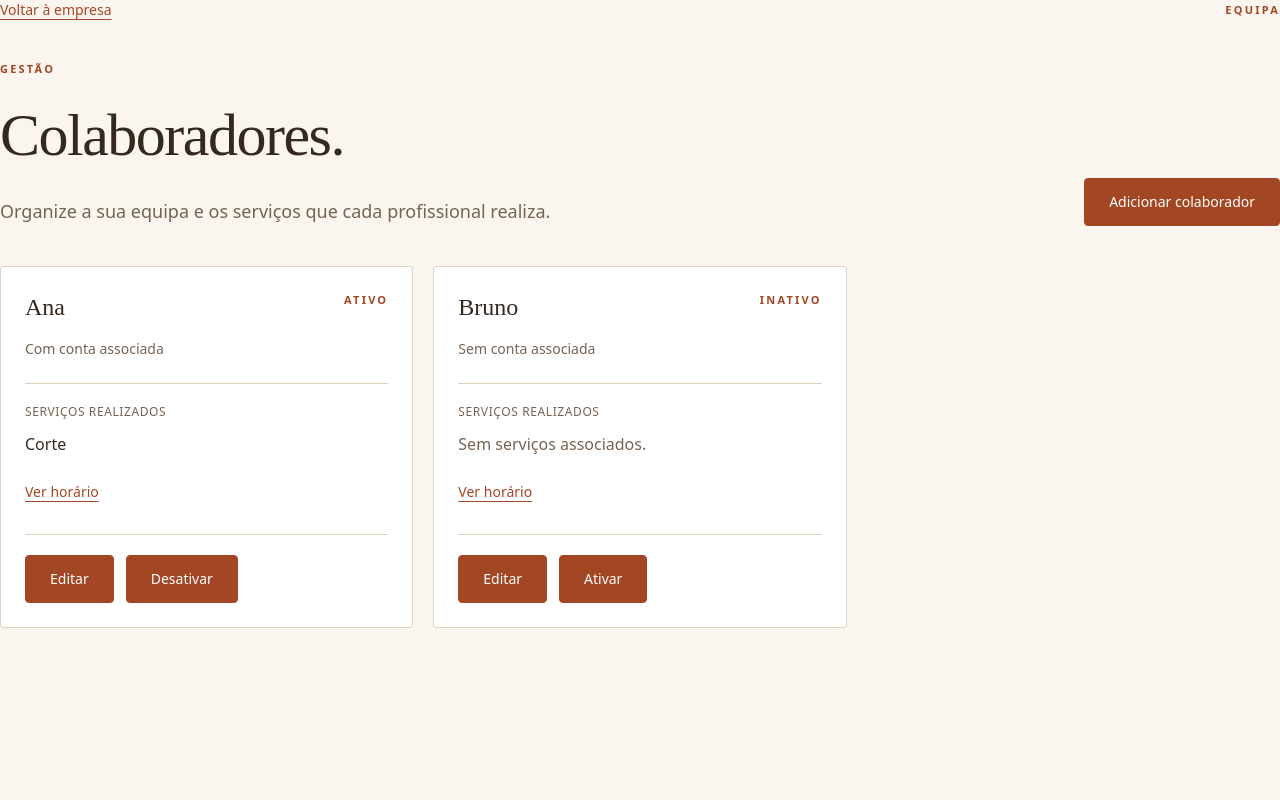
Test: preenche edição e permite limpar serviços e conta
Click the button "Editar" below "Corte" at (69, 579), box [25,555,114,603]
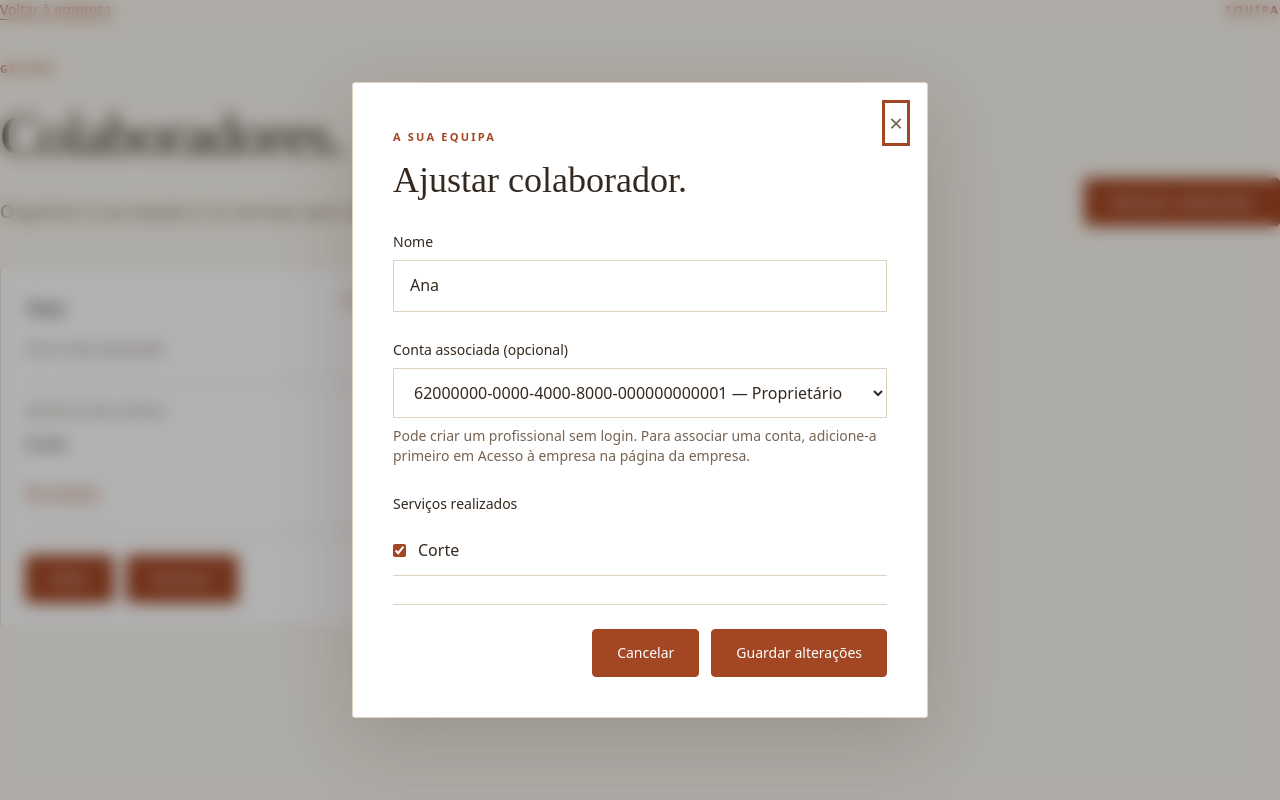
Expected: the field labelled "Nome" holds "Ana", [393,260,887,312]
Expected: the checkbox labelled "Corte" is checked
Expected: the dropdown labelled "Conta associada (opcional)" shows "62000000-0000-4000-8000-000000000001 — Proprietário", [393,368,887,418]
Click the checkbox labelled "Corte" at (400, 551), box [393,544,406,557]
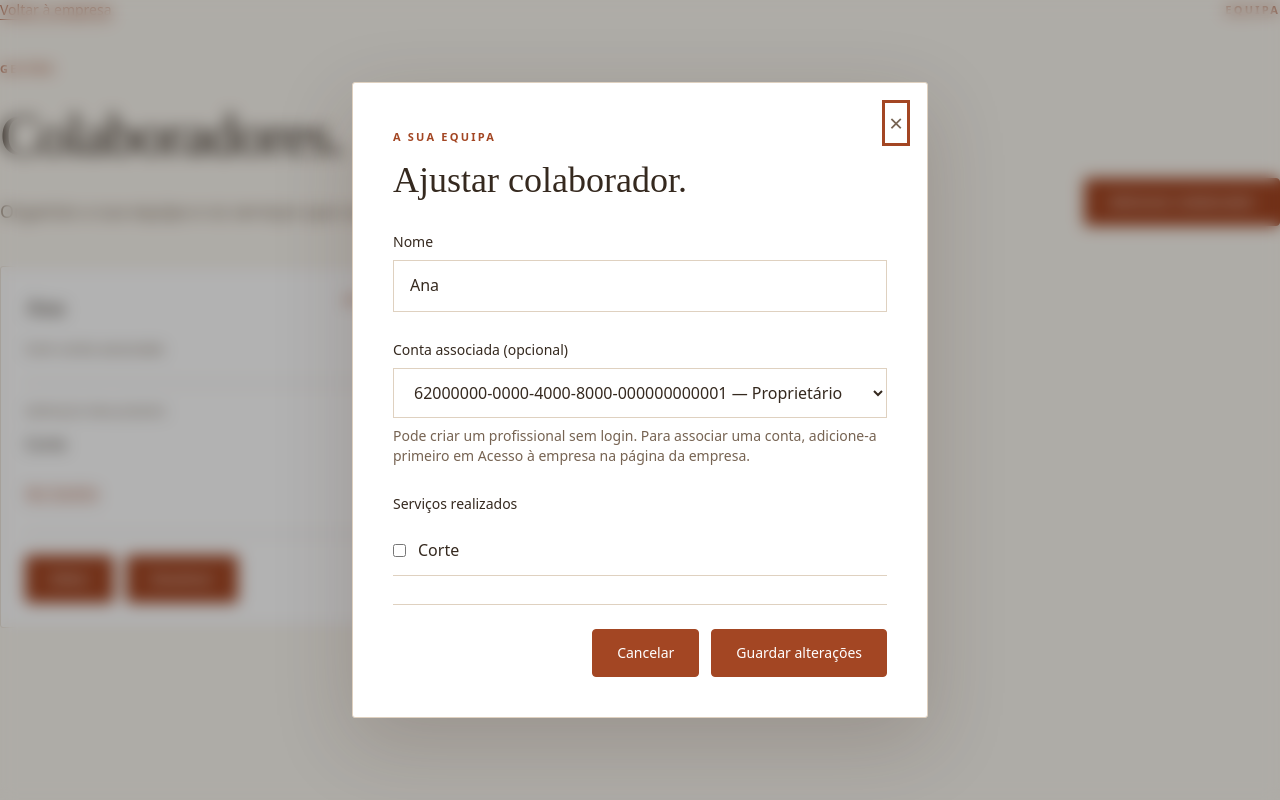
Select "Sem conta associada" in the dropdown labelled "Conta associada (opcional)" at (640, 393), box [393,368,887,418]
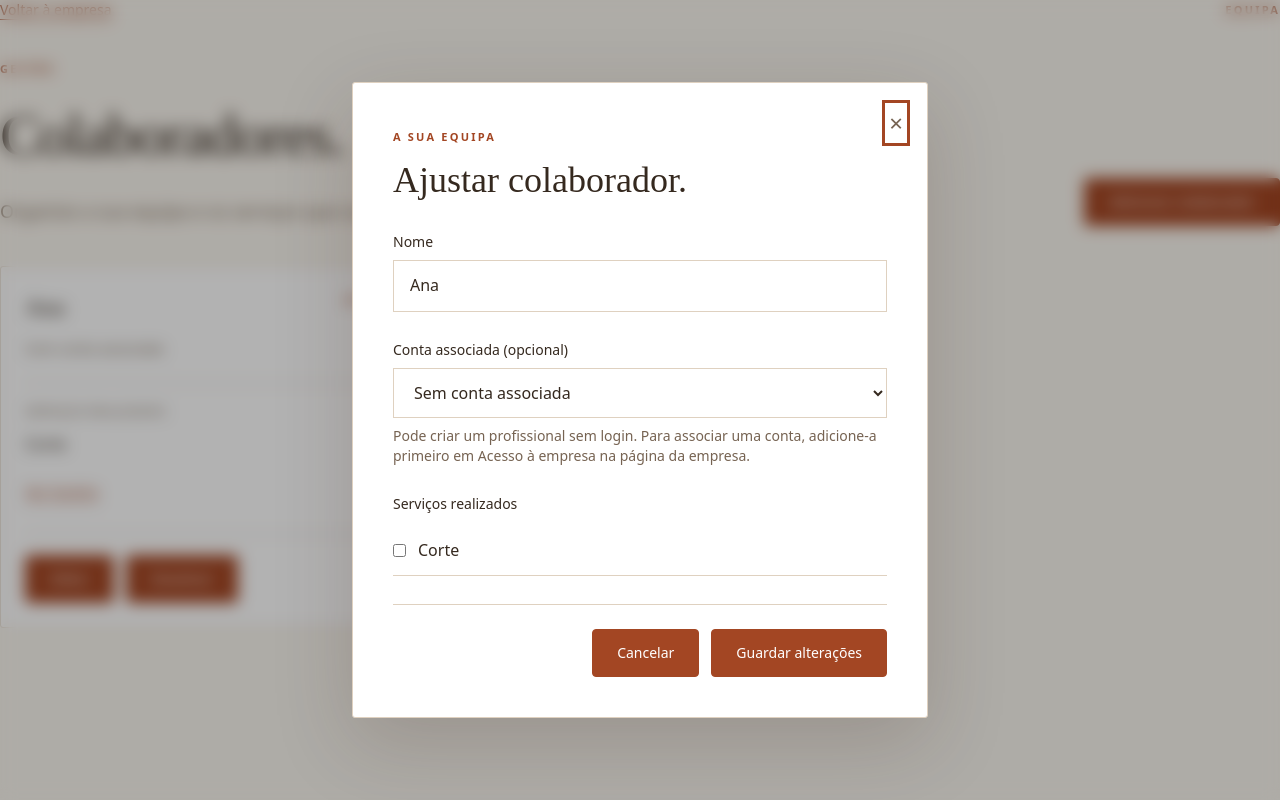
Click the button "Guardar alterações" at (799, 653), box [711,629,887,677]
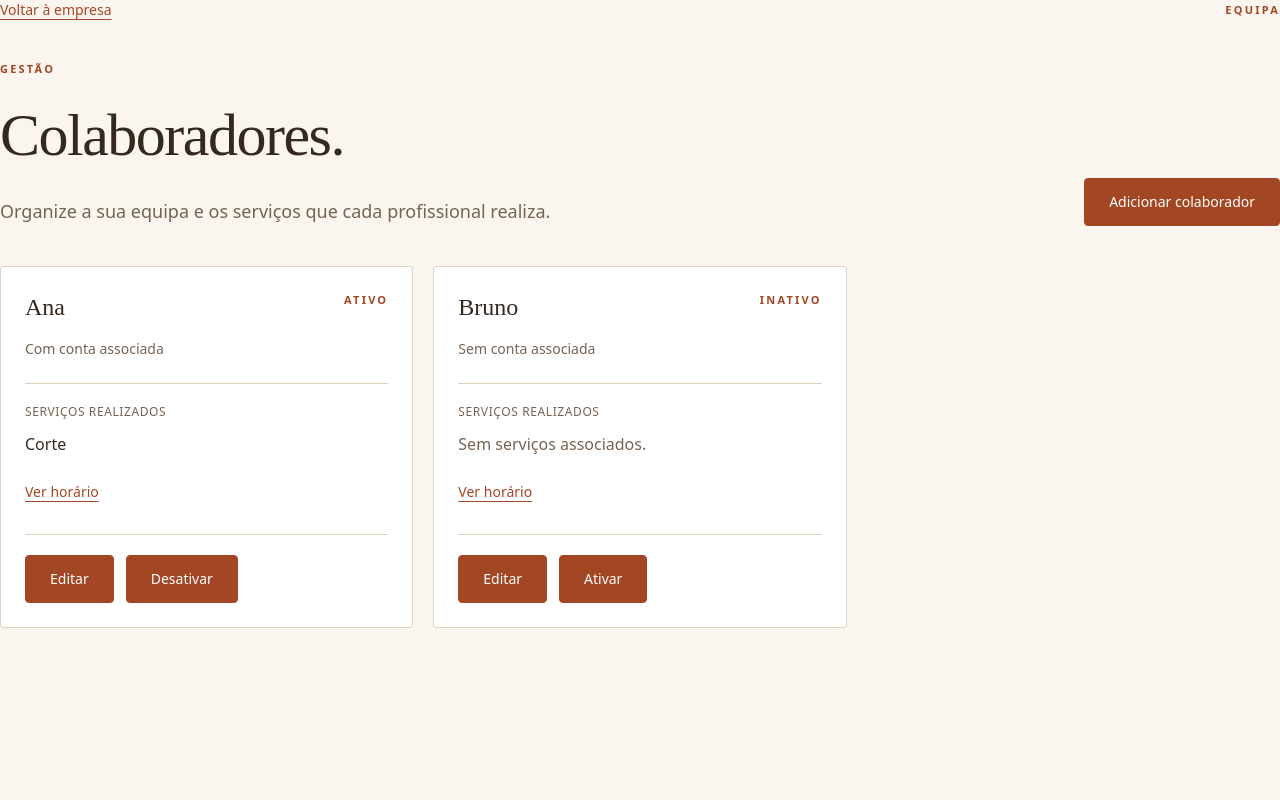
Expected: the dialog is gone
